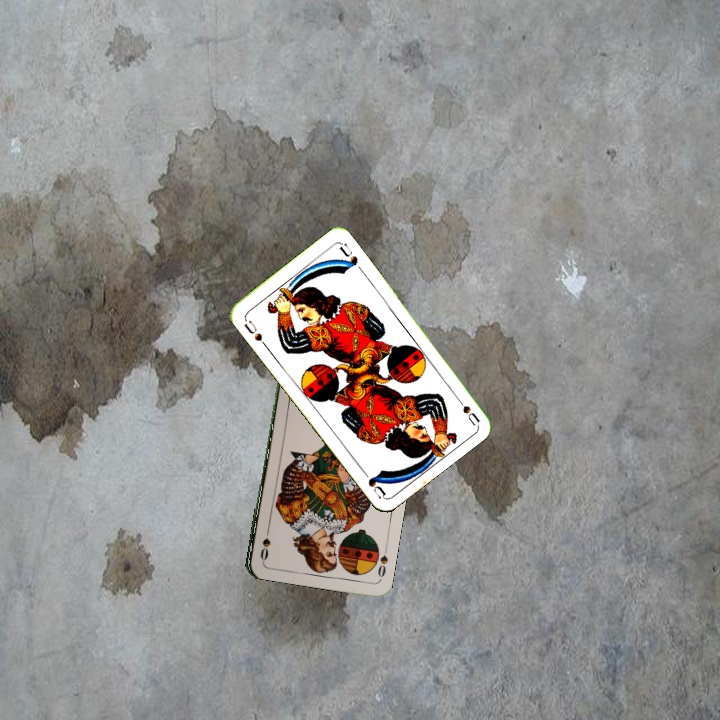SO: (374, 542, 391, 582)
SU: (451, 390, 482, 427), (240, 316, 269, 349)
